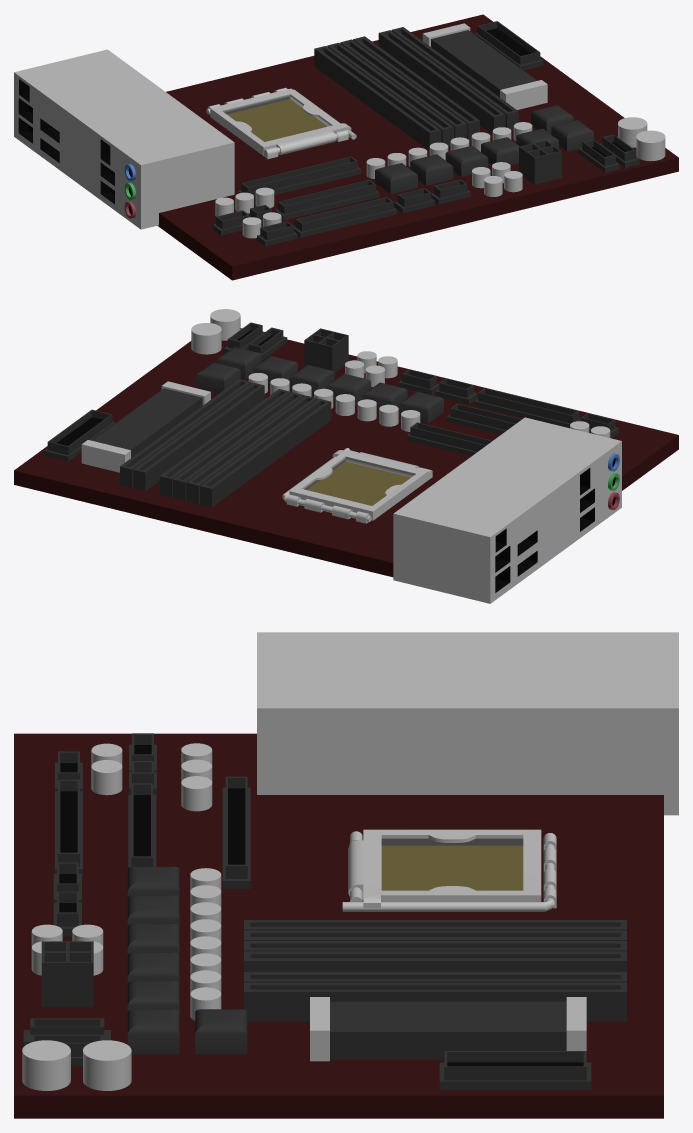
The model's file is TERABYTE AM5 DDR5.fbx.
3 views of the same model, one above another, from view 1: azimuth 30°, elevation 25°; view 2: azimuth 150°, elevation 25°; view 3: azimuth 270°, elevation 25° (orthographic). The views are drawn at different scales.
Visible parts, largest first — view 1: Plane, Cube.002, Cube.006, Cube.001, Cube, Cube.008, Cube.014, Cylinder.011, Cube.007, Cube.024, Cube.019, Cube.003 (+14 smaller); view 2: Plane, Cube.002, Cube.006, Cube.001, Cube, Cube.014, Cube.008, Cylinder.006, Cube.007, Cube.019, Cube.010, Cube.023 (+13 smaller); view 3: Plane, Cube.002, Cube.006, Cube.001, Cube.014, Cube.008, Cube, Cube.007, Cube.023, Cylinder.011, Cube.010, Cylinder.001 (+14 smaller).
Part boxes in pixels (box(x1,y1,x2,y2)): Plane: box(157, 14, 678, 280); Cube.002: box(14, 49, 234, 229); Cube.006: box(314, 36, 479, 150); Cube.001: box(378, 27, 518, 133); Cube: box(375, 128, 558, 194); Cube.008: box(210, 88, 351, 155); Cube.014: box(431, 30, 537, 97); Cylinder.011: box(215, 162, 522, 238); Cube.007: box(227, 99, 327, 141); Cube.024: box(237, 156, 361, 199); Cube.019: box(294, 197, 396, 237); Cube.003: box(274, 179, 379, 220); Plane: box(14, 328, 678, 577); Cube.002: box(393, 417, 621, 603); Cube.006: box(159, 389, 331, 507); Cube.001: box(120, 379, 264, 491); Cube: box(253, 355, 443, 423); Cube.014: box(92, 388, 202, 457); Cube.008: box(289, 450, 428, 520); Cylinder.006: box(248, 373, 420, 431); Cube.007: box(307, 461, 410, 505); Cube.019: box(474, 388, 580, 428); Cube.010: box(196, 347, 261, 393); Cube.023: box(44, 409, 115, 461); Plane: box(14, 733, 663, 1118); Cube.002: box(257, 632, 678, 815); Cube.006: box(244, 920, 626, 971); Cube.001: box(244, 972, 626, 1021); Cube.014: box(330, 1001, 566, 1059); Cube.008: box(348, 829, 541, 907); Cube: box(127, 866, 179, 1010); Cube.007: box(381, 845, 523, 890); Cube.023: box(439, 1051, 591, 1089); Cylinder.011: box(31, 743, 212, 975); Cube.010: box(127, 1009, 247, 1054); Cylinder.001: box(22, 1040, 131, 1090).
Size of the model in its own units: 325 by 43.93 by 241.
